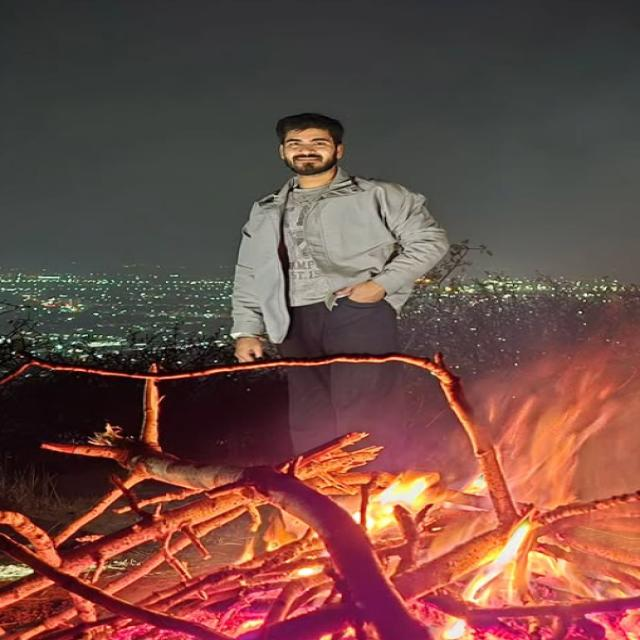fire: (486, 371, 622, 513), (234, 506, 324, 640), (533, 550, 640, 640), (347, 471, 445, 544), (462, 516, 534, 608), (431, 609, 502, 640)
